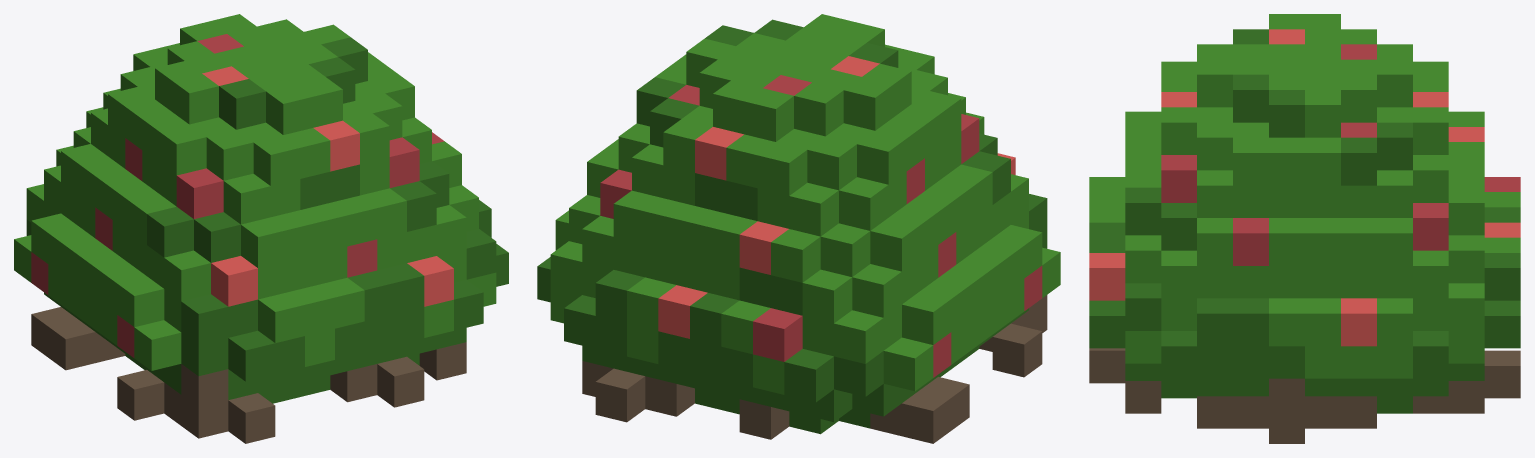
The model's file is cubeland1-19.obj.
3 views of the same model, side by side, from view 1: azimuth 30°, elevation 25°; view 2: azimuth 150°, elevation 25°; view 3: azimuth 270°, elevation 25° (orthographic). The views are drawn at different scales.
Bounding box in the file's own units: 1.2 × 0.9 × 1.2.
Materials: 1 (1 with a texture image).
